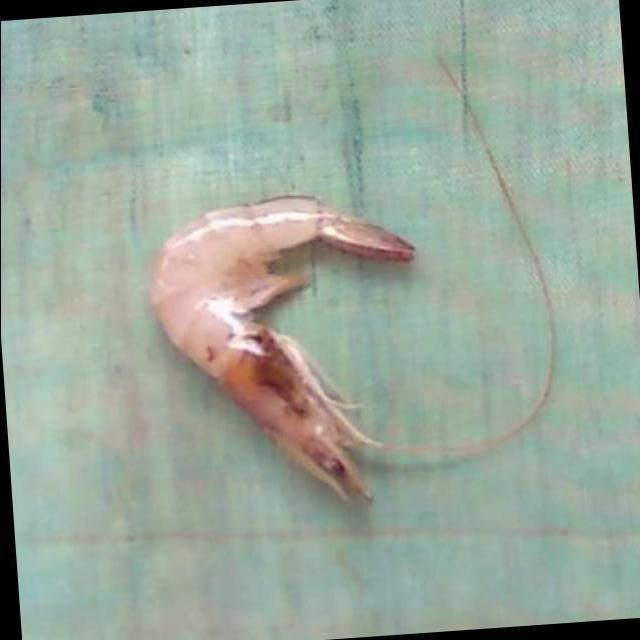shrimp: (150, 199, 414, 501)
